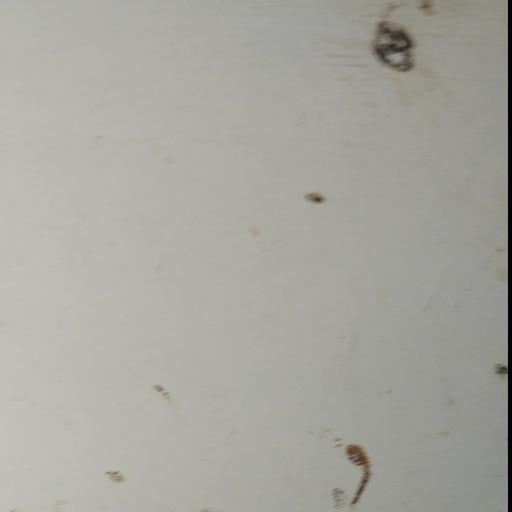stain: (260, 17, 512, 512)
